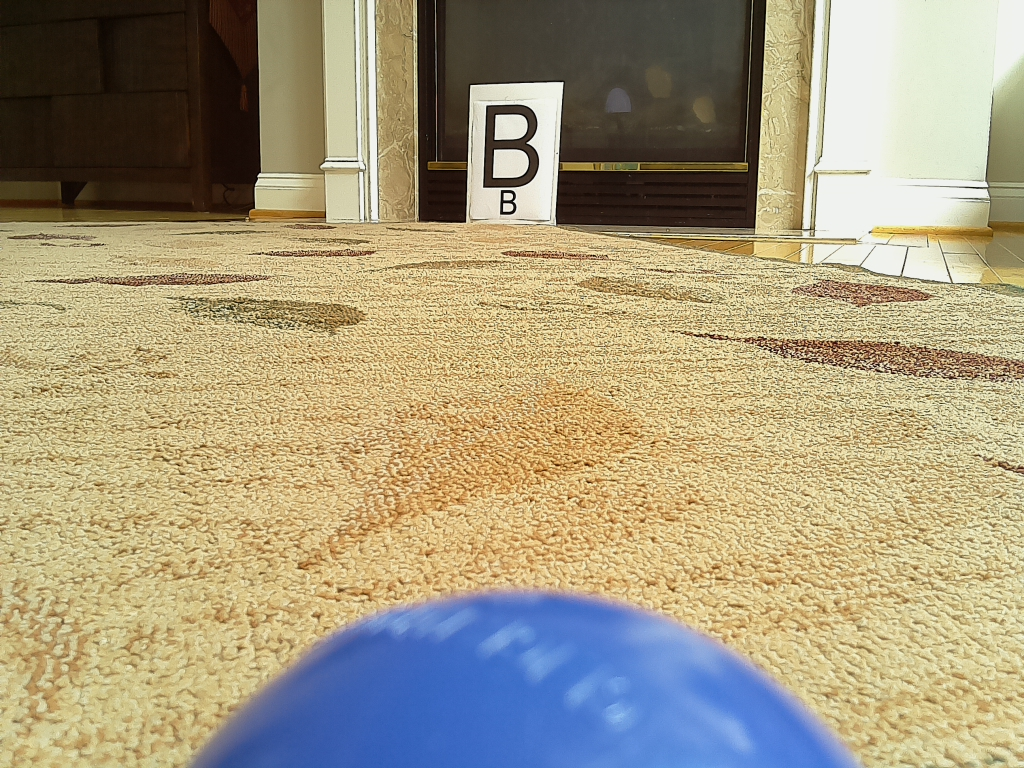letter: (482, 105, 539, 188)
